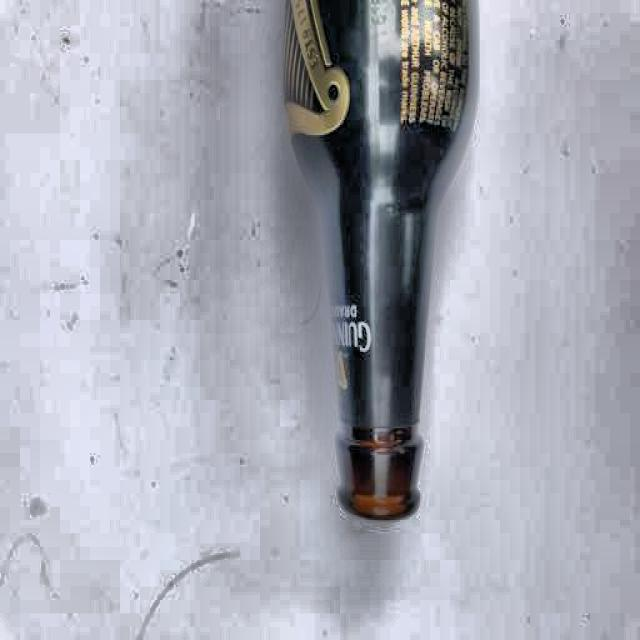glass: (280, 0, 481, 536)
